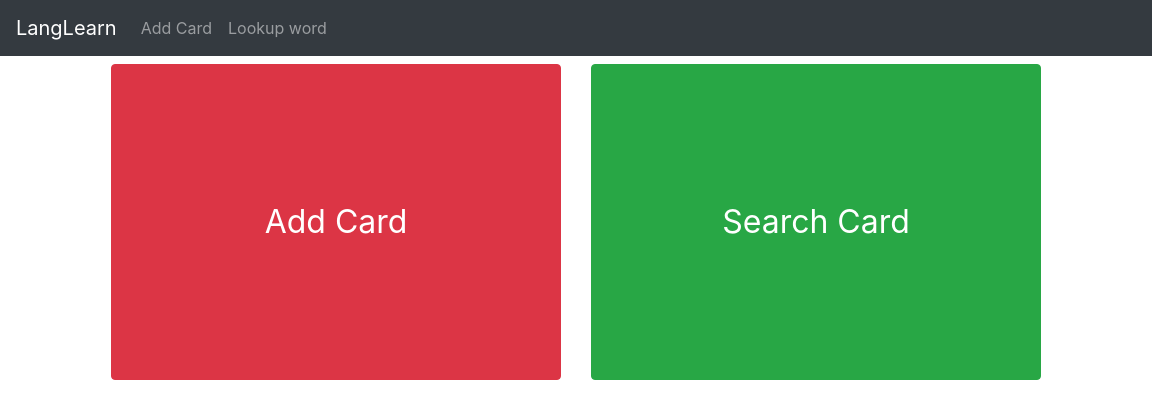
Test case: loads SearchCard.jsx
Step 1. Click the link "Lookup word" → (277,28), box [228,18,327,38]
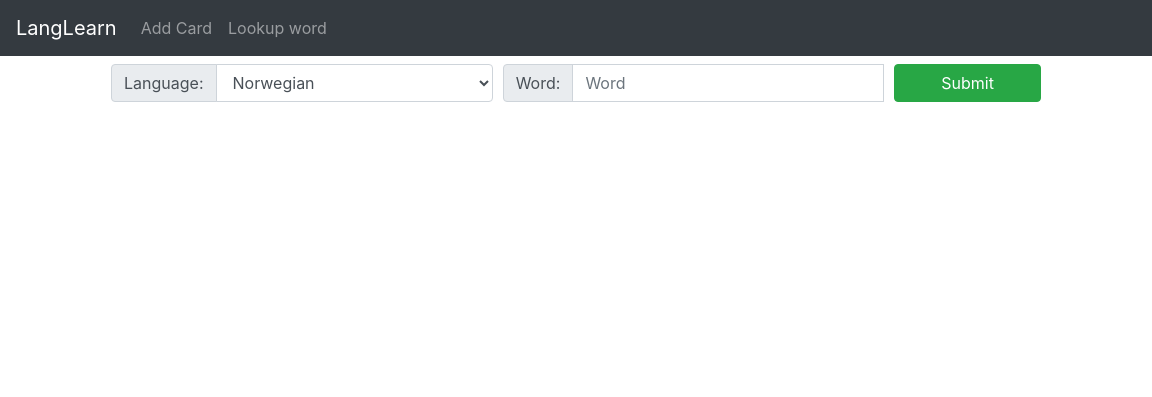
Expected: the text "Word:" is shown, [503,64,573,102]
